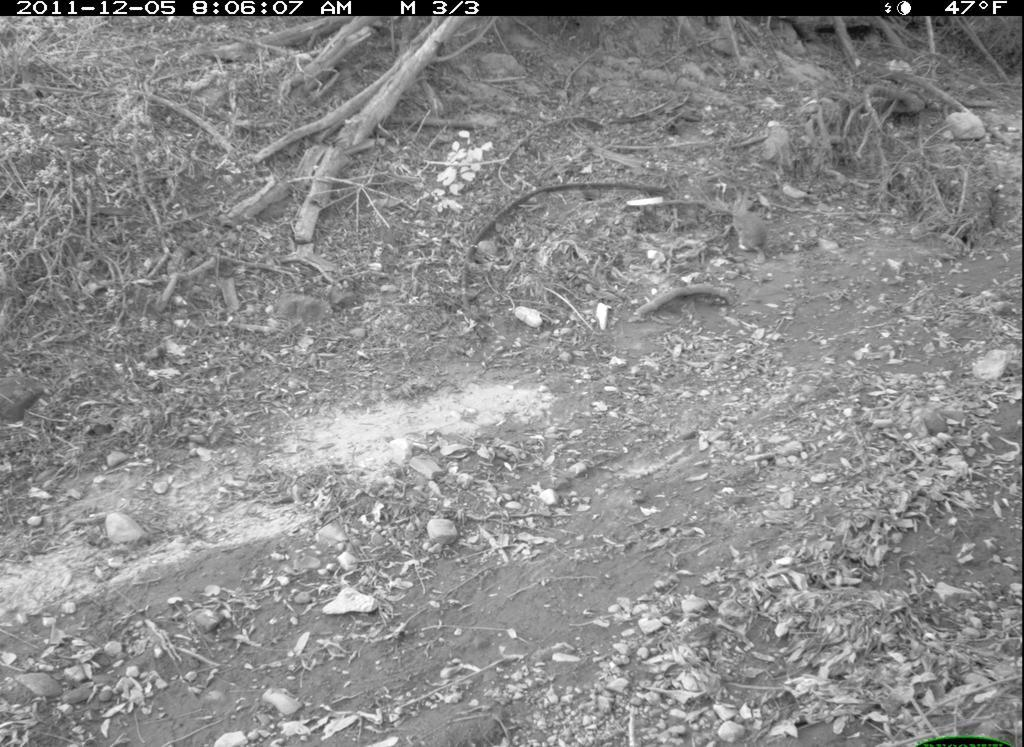rabbit: (716, 181, 777, 262)
